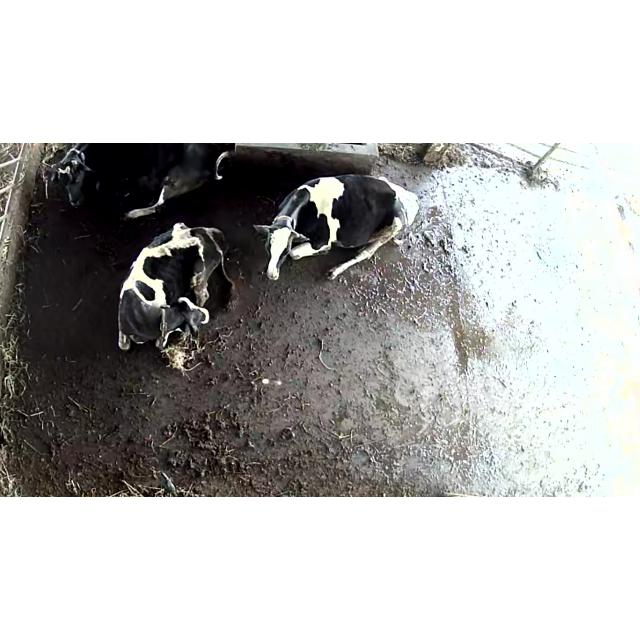lay: (250, 168, 448, 294), (104, 221, 246, 375), (46, 143, 230, 217)
